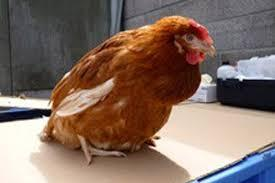AbNormal: (37, 13, 219, 173)
